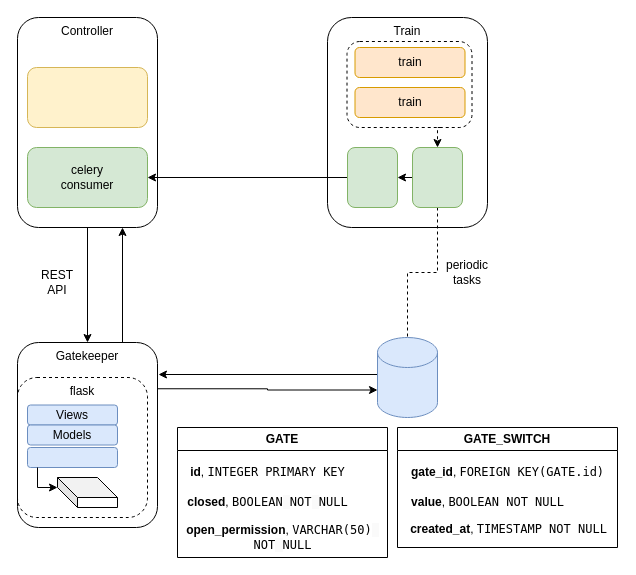
This 636x575 diagram has some shape labels left out. The shapes that lost their labels are listed below. From the top down, each one's centre as x and y in pixels, then its label:
the point at 87,97: business logic
the point at 372,177: celery producer
the point at 437,177: celery beat
the point at 407,377: postgres
the point at 72,457: Logger
the point at 87,492: disk
